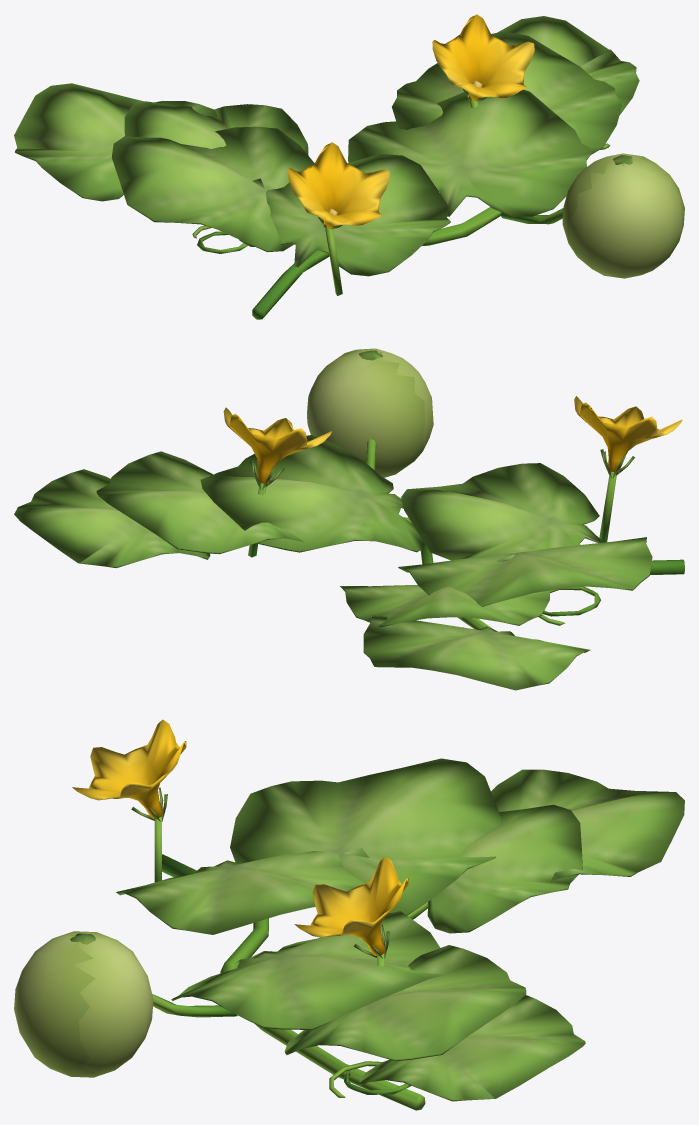
The model's file is NP_Melon_Flowering_LOD1.fbx.
3 views of the same model, one above another, from view 1: azimuth 30°, elevation 25°; view 2: azimuth 150°, elevation 25°; view 3: azimuth 270°, elevation 25° (orthographic). The views are drawn at different scales.
Parts seen in each view (by area): view 1: NP_Melon_Flowering; view 2: NP_Melon_Flowering; view 3: NP_Melon_Flowering.
Part boxes in pixels (bbox=[...]): NP_Melon_Flowering: bbox=[14, 14, 684, 319]; NP_Melon_Flowering: bbox=[14, 348, 684, 690]; NP_Melon_Flowering: bbox=[14, 719, 684, 1110].
Bounding box in the file's own units: 81.55 × 22.4 × 72.43.
